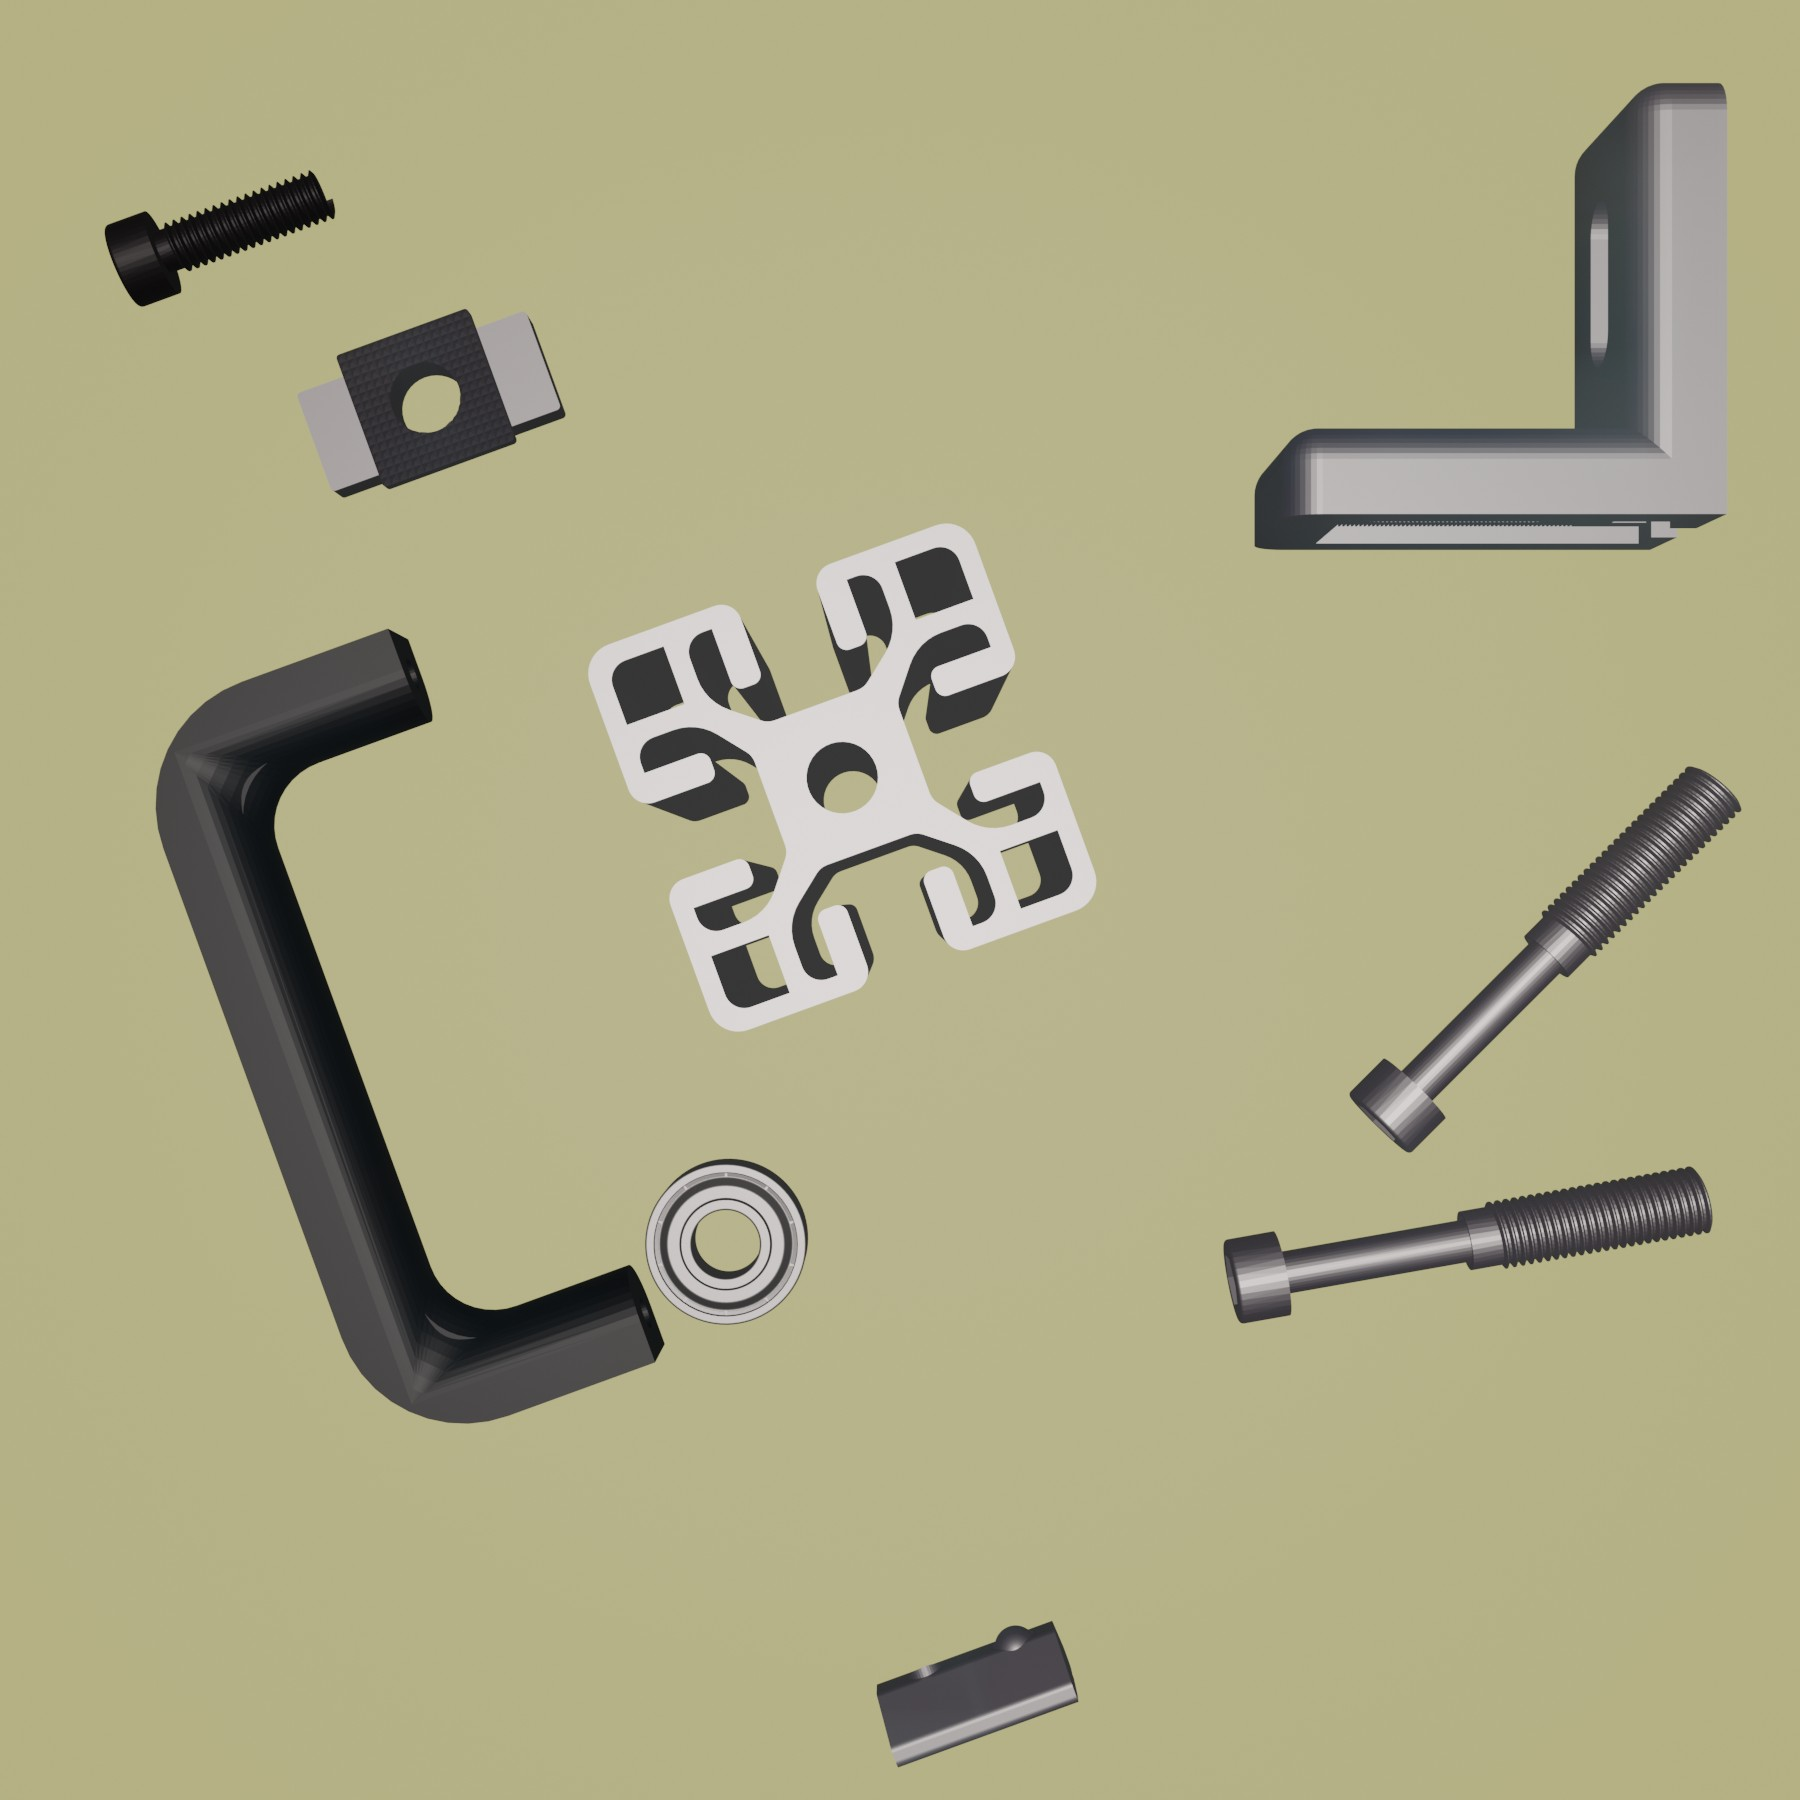Aluminium Extension: (587, 519, 1103, 1038)
Ball Bearing: (645, 1152, 809, 1324)
Multiwinkel: (1248, 77, 1732, 555)
Pull Handle: (152, 626, 666, 1427)
Shoulder Socket Head Cap Screw: (1343, 762, 1742, 1157), (1220, 1159, 1718, 1327)
Socket Head Cap Screw: (101, 166, 338, 312)
T Nut Square: (292, 303, 569, 501)
T Spring Nut: (874, 1615, 1083, 1774)
